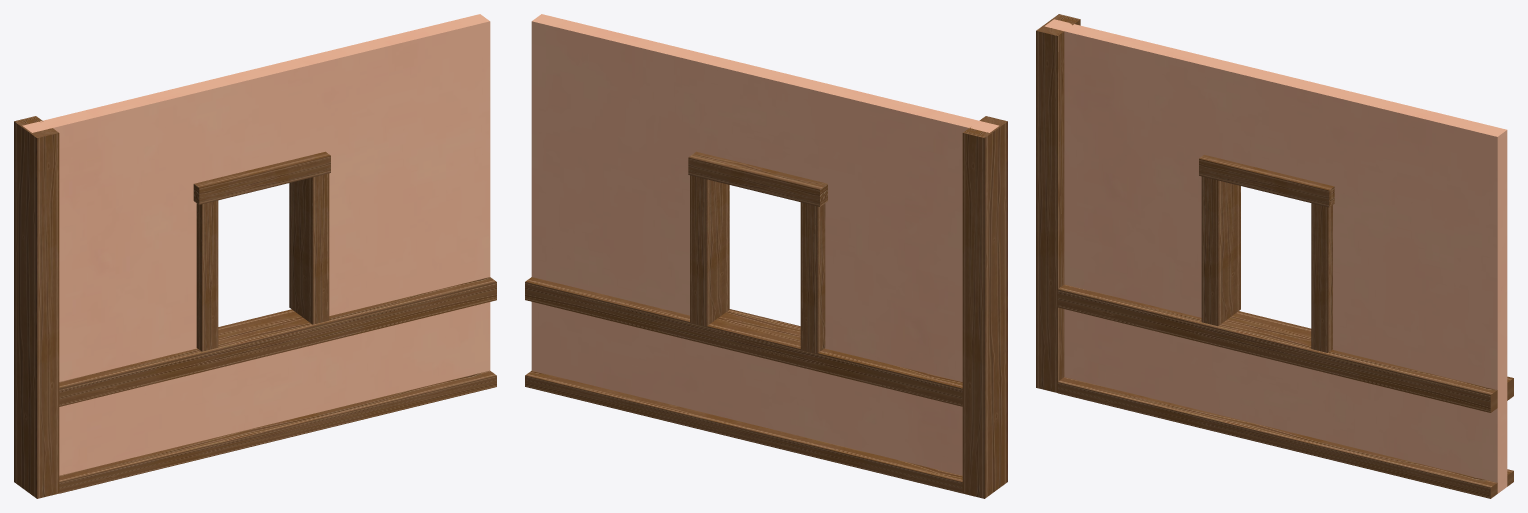
The model's file is SM_Window_Wall_01_wrose.glb.
The picture shows the model from 3 angles, left to right: view 1: azimuth 30°, elevation 25°; view 2: azimuth 150°, elevation 25°; view 3: azimuth 330°, elevation 25°; orthographic projection.
Parts seen in each view (by area): view 1: SM_Window_Wall_01; view 2: SM_Window_Wall_01; view 3: SM_Window_Wall_01.
Part boxes in pixels (box(x1,y1,x2,y2)): SM_Window_Wall_01: box(14, 14, 496, 498); SM_Window_Wall_01: box(525, 14, 1007, 498); SM_Window_Wall_01: box(1036, 14, 1513, 498).
Size of the model in its own units: 4 by 3 by 0.3736.
2 materials, 2 textured.
